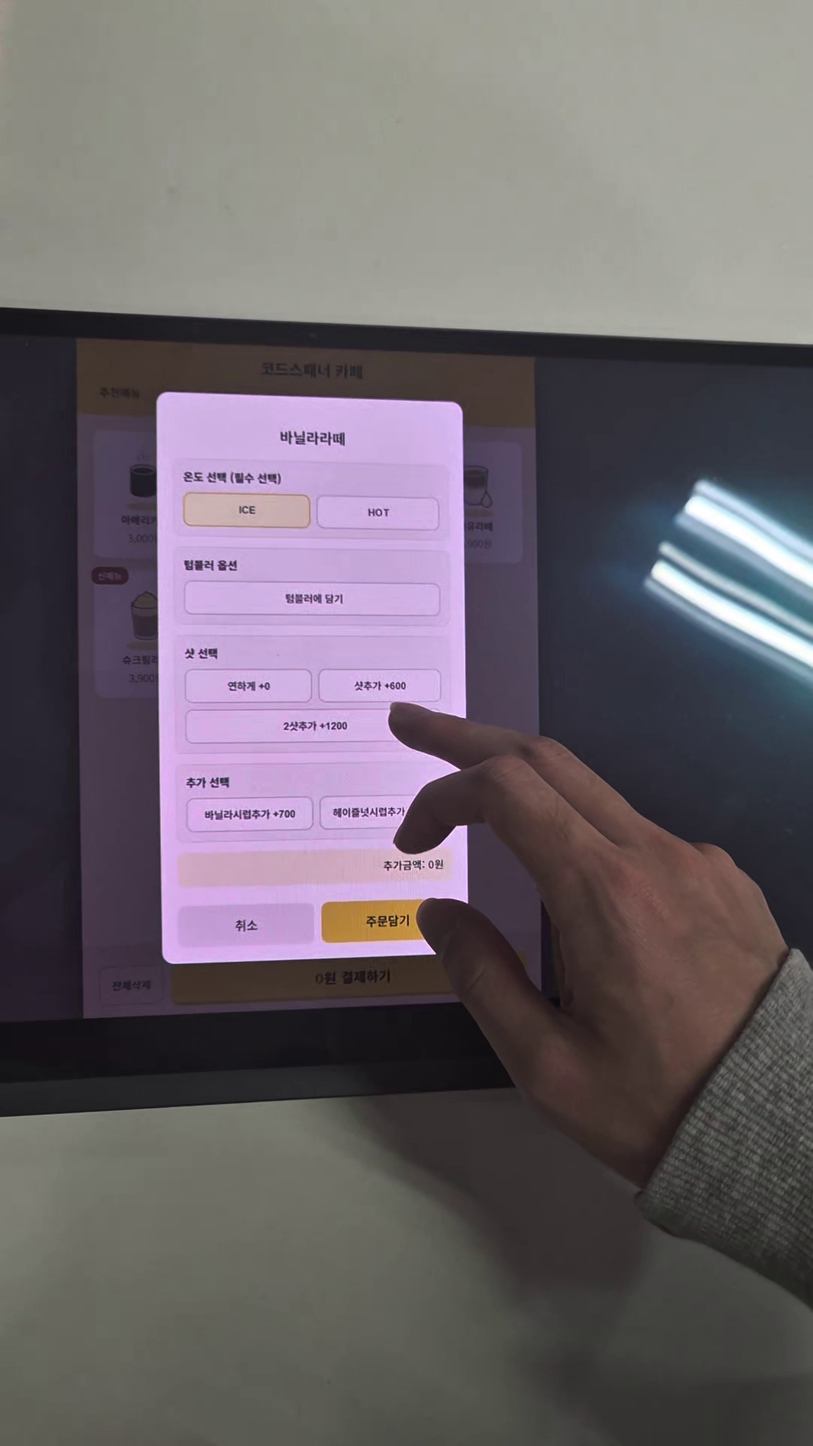action_button: (180, 903, 313, 948), (318, 899, 451, 944)
option_button: (186, 711, 440, 745), (185, 584, 440, 617), (187, 796, 313, 833), (319, 793, 445, 830), (315, 495, 441, 531), (186, 668, 312, 704), (317, 668, 443, 704), (184, 492, 309, 528)
popup_modal: (156, 391, 468, 964)
